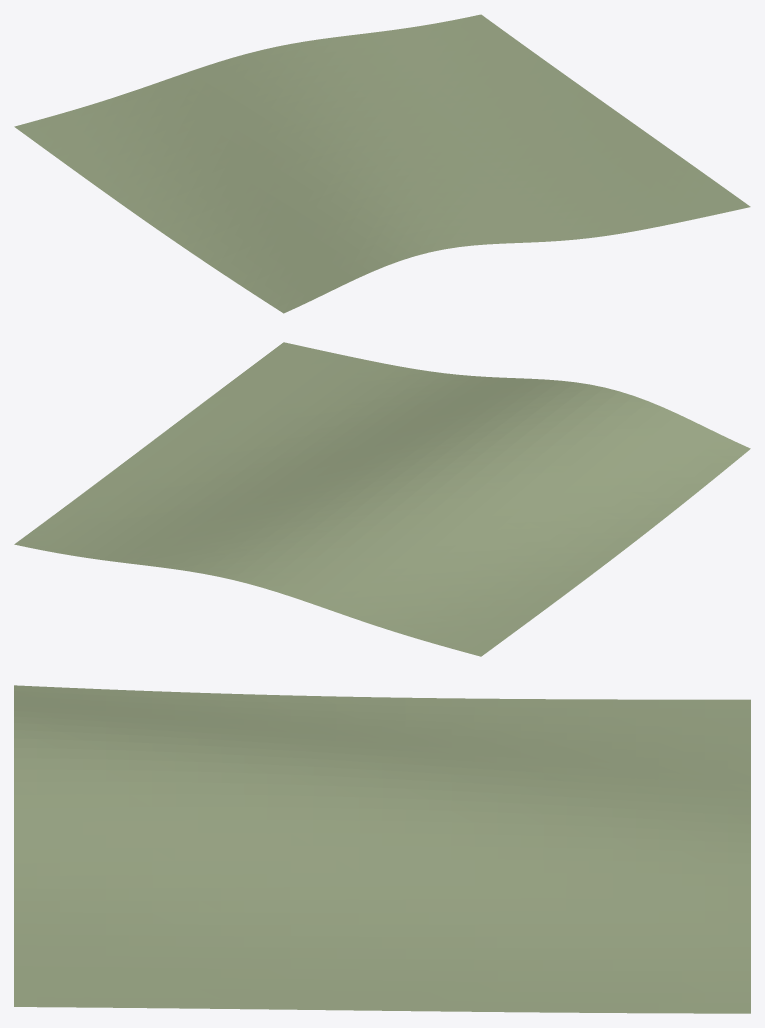
The model's file is desert-9-3.glb.
3 views of the same model, one above another, from view 1: azimuth 30°, elevation 25°; view 2: azimuth 150°, elevation 25°; view 3: azimuth 270°, elevation 25° (orthographic). The views are drawn at different scales.
Parts seen in each view (by area): view 1: desert-9-3; view 2: desert-9-3; view 3: desert-9-3.
Part boxes in pixels (<box>): desert-9-3: <box>14,14,750,313</box>; desert-9-3: <box>14,342,750,656</box>; desert-9-3: <box>14,685,750,1013</box>.
Size of the model in its own units: 512 by 39.66 by 512.
